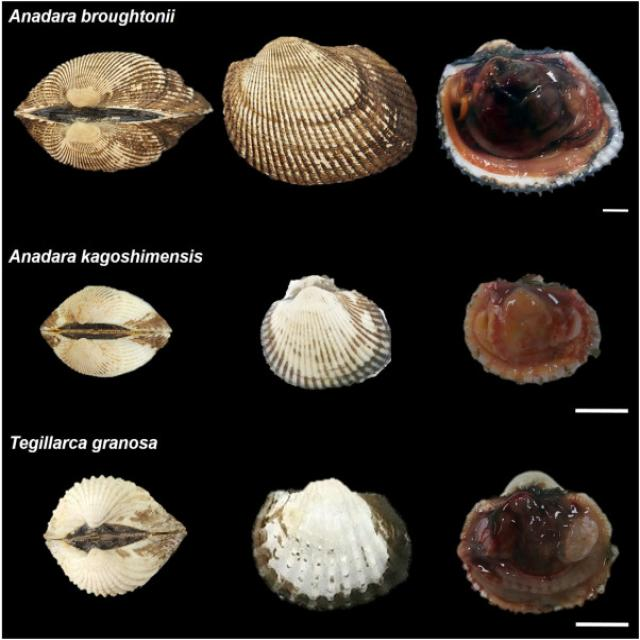Anadara_kagoshimensis: (251, 273, 398, 393), (465, 274, 599, 386), (43, 284, 168, 376)
